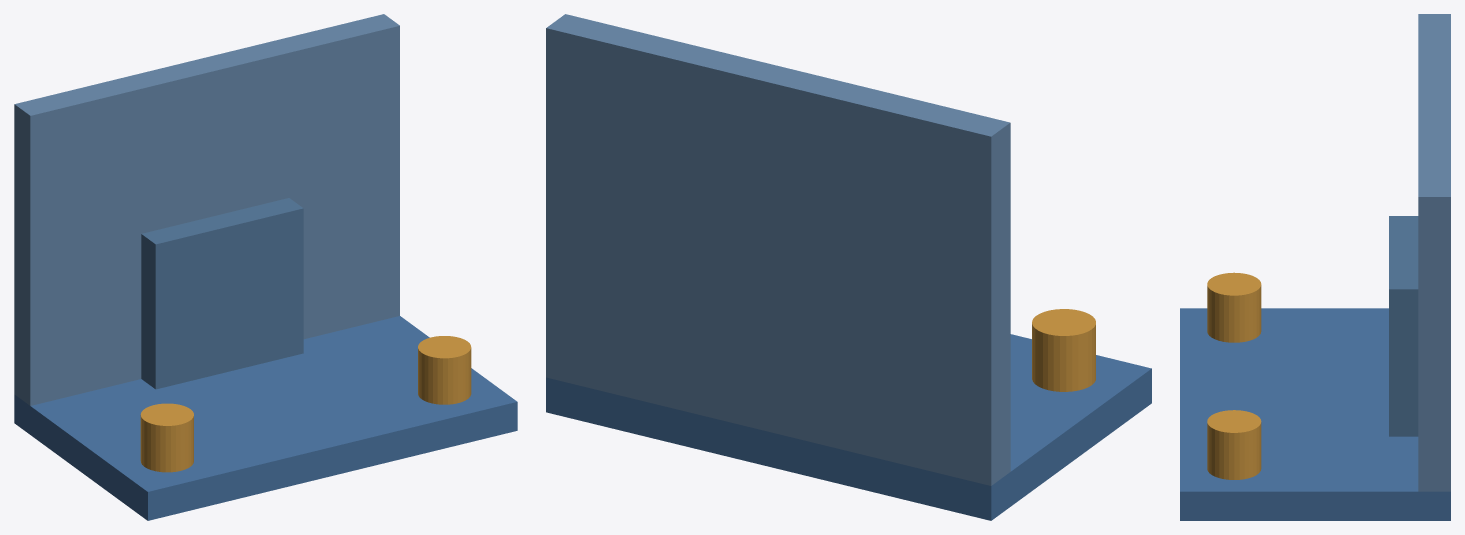
3 views of the same model, side by side, from view 1: azimuth 30°, elevation 25°; view 2: azimuth 150°, elevation 25°; view 3: azimuth 270°, elevation 25° (orthographic). The views are drawn at different scales.
Visible parts, largest first — view 1: plate, base, gusset, boss-1, boss-2; view 2: plate, base, boss-1; view 3: base, plate, gusset, boss-1, boss-2.
Part boxes in pixels (x1,y1,x2,y2): plate: (14, 14, 399, 405); base: (14, 316, 517, 520); gusset: (141, 198, 303, 389); boss-1: (140, 403, 193, 472); boss-2: (418, 336, 471, 404); plate: (546, 14, 1010, 485); base: (546, 334, 1151, 520); boss-1: (1032, 309, 1095, 391); base: (1180, 308, 1450, 520); plate: (1418, 14, 1450, 491); gusset: (1389, 216, 1418, 436); boss-1: (1207, 272, 1261, 342); boss-2: (1207, 410, 1261, 479).
Size of the model in its own units: 80 by 66 by 50.
